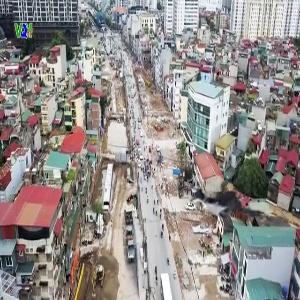drone: (181, 159, 272, 250)
